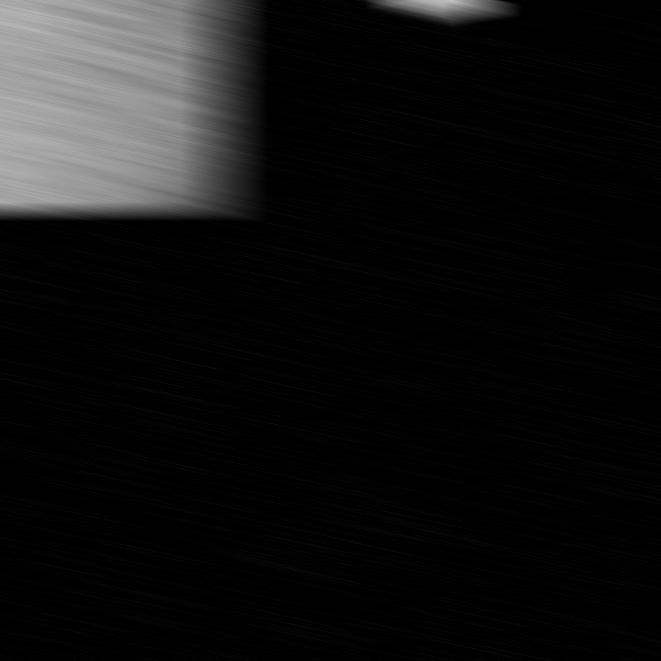Airbag: (0, 0, 234, 213)
